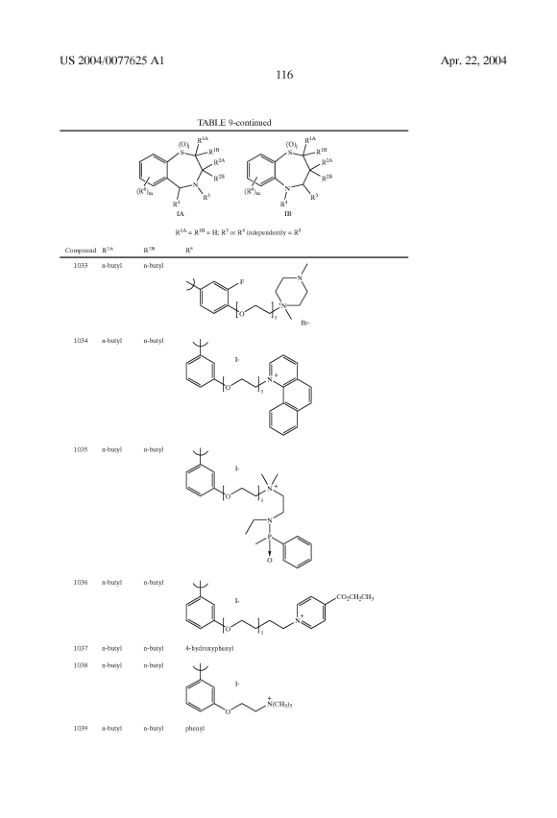compound-structure: (184, 444, 316, 569), (177, 336, 327, 436), (180, 575, 375, 634), (176, 266, 330, 328), (131, 133, 232, 221), (240, 133, 341, 220), (182, 657, 295, 718)
